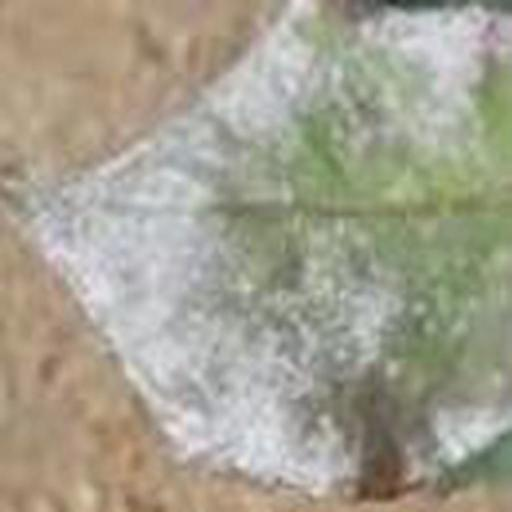powdery_mildew: (33, 18, 512, 498)
